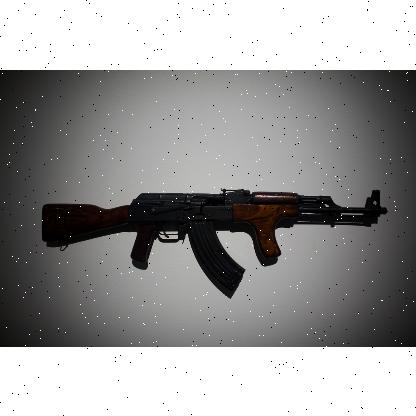gun: (41, 188, 387, 298)
